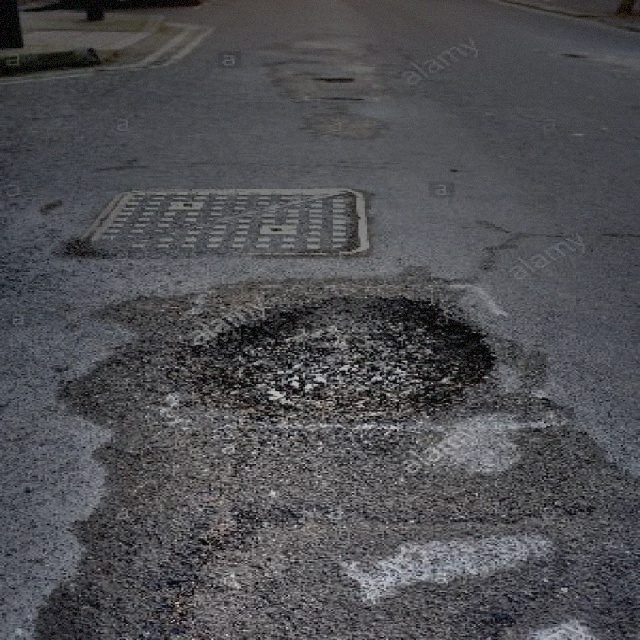pothole: (160, 288, 497, 428), (307, 74, 363, 83)
